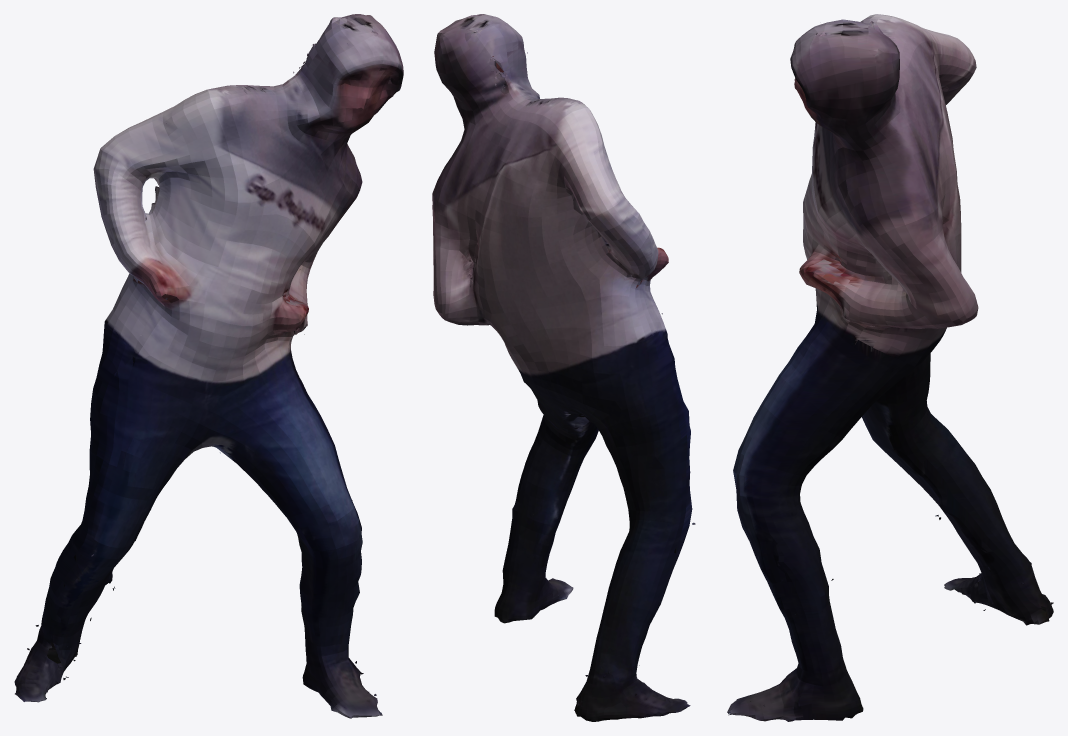
Rendered from AB-dodgeLeft_0000051.obj.
The picture shows the model from 3 angles, left to right: view 1: azimuth 30°, elevation 25°; view 2: azimuth 150°, elevation 25°; view 3: azimuth 270°, elevation 25°; orthographic projection. The views are drawn at different scales.
Visible parts, largest first — view 1: Retopo_frame_0000051_mesh; view 2: Retopo_frame_0000051_mesh; view 3: Retopo_frame_0000051_mesh.
Boxes of the visible parts, box(x1,y1,x2,y2) form: Retopo_frame_0000051_mesh: box(14, 14, 403, 718); Retopo_frame_0000051_mesh: box(432, 14, 695, 721); Retopo_frame_0000051_mesh: box(727, 14, 1053, 721).
Bounding box in the file's own units: 0.8029 × 1.56 × 0.6619.
Materials: 1 (1 with a texture image).
